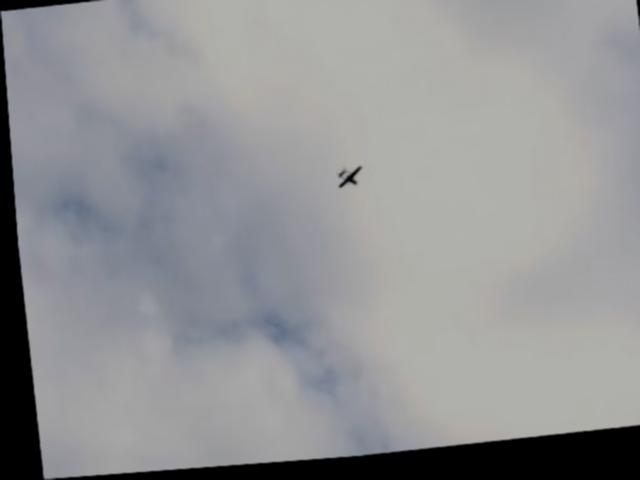uav: (332, 167, 365, 198)
